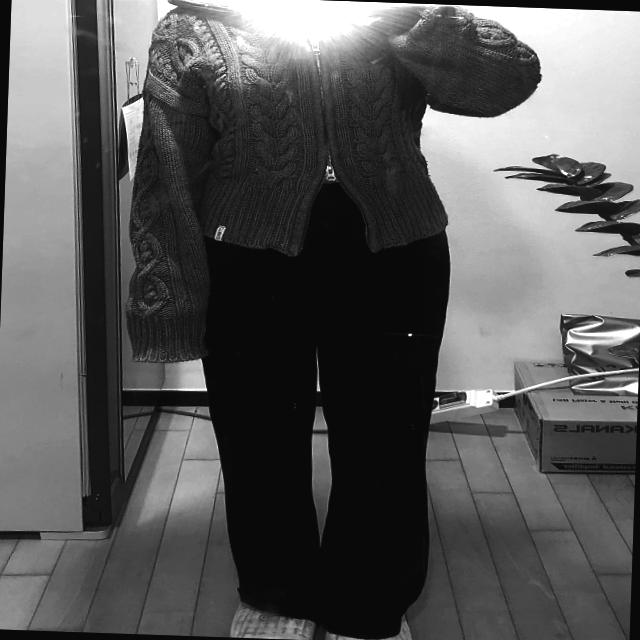cardigan: (125, 0, 546, 377)
slacks: (184, 173, 459, 640)
